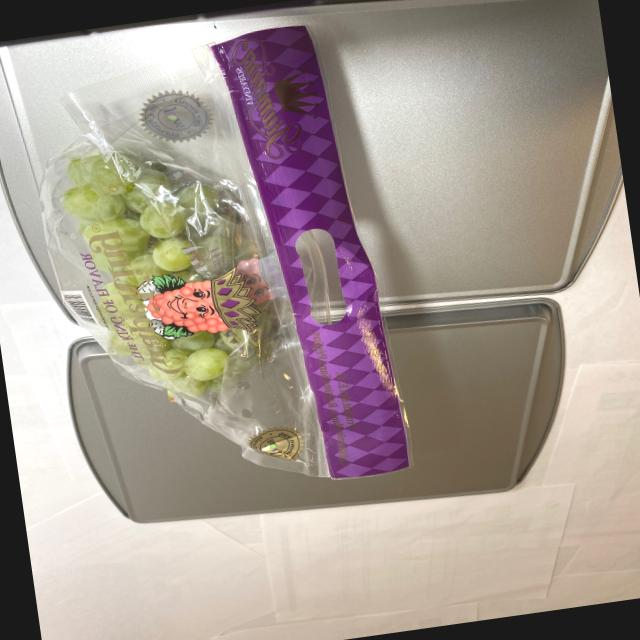grapes: (52, 118, 285, 423)
